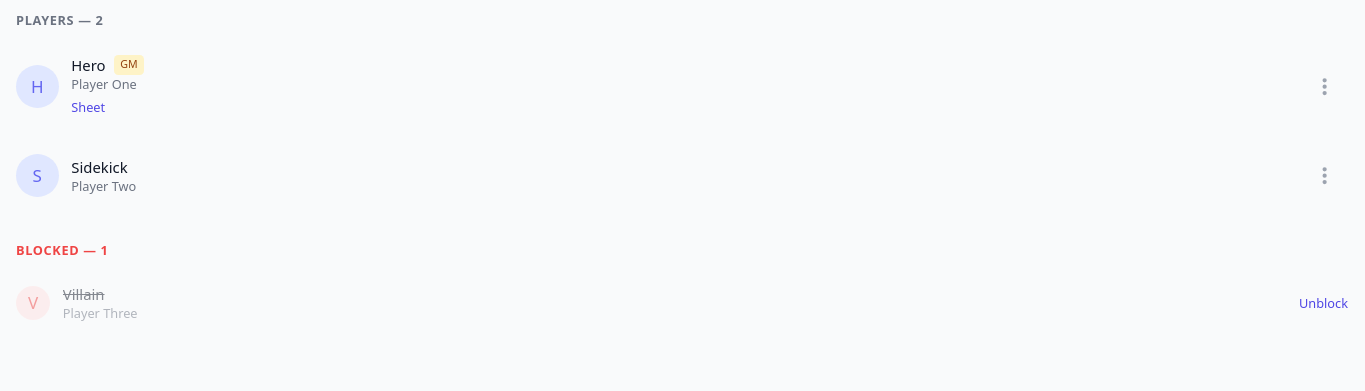
Test: MemberList › shows Set as Active Player on a player menu for the GM
Click the button with test id "menu-btn-m2": (1325, 176) [1301,152,1348,199]
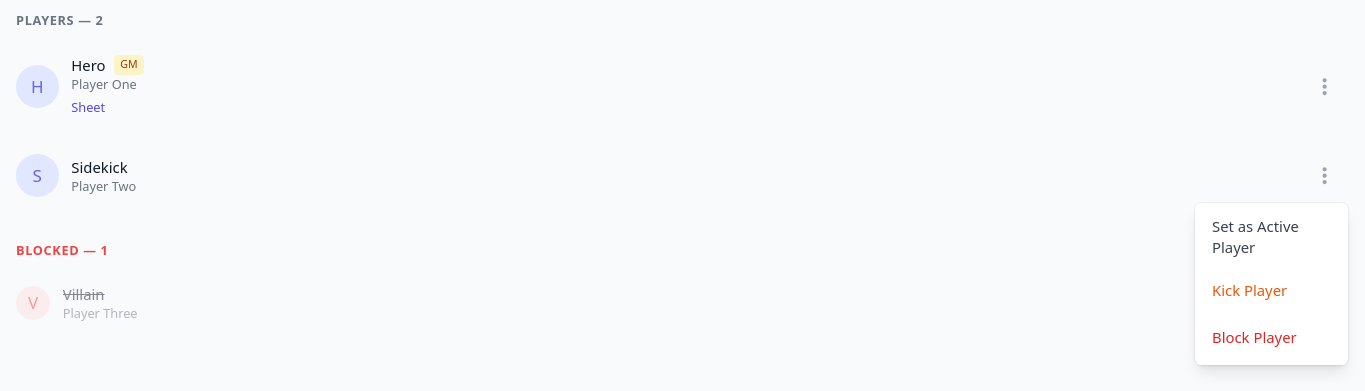
Now the menu item "Set as Active Player" is shown, box [1195,208,1348,267]
